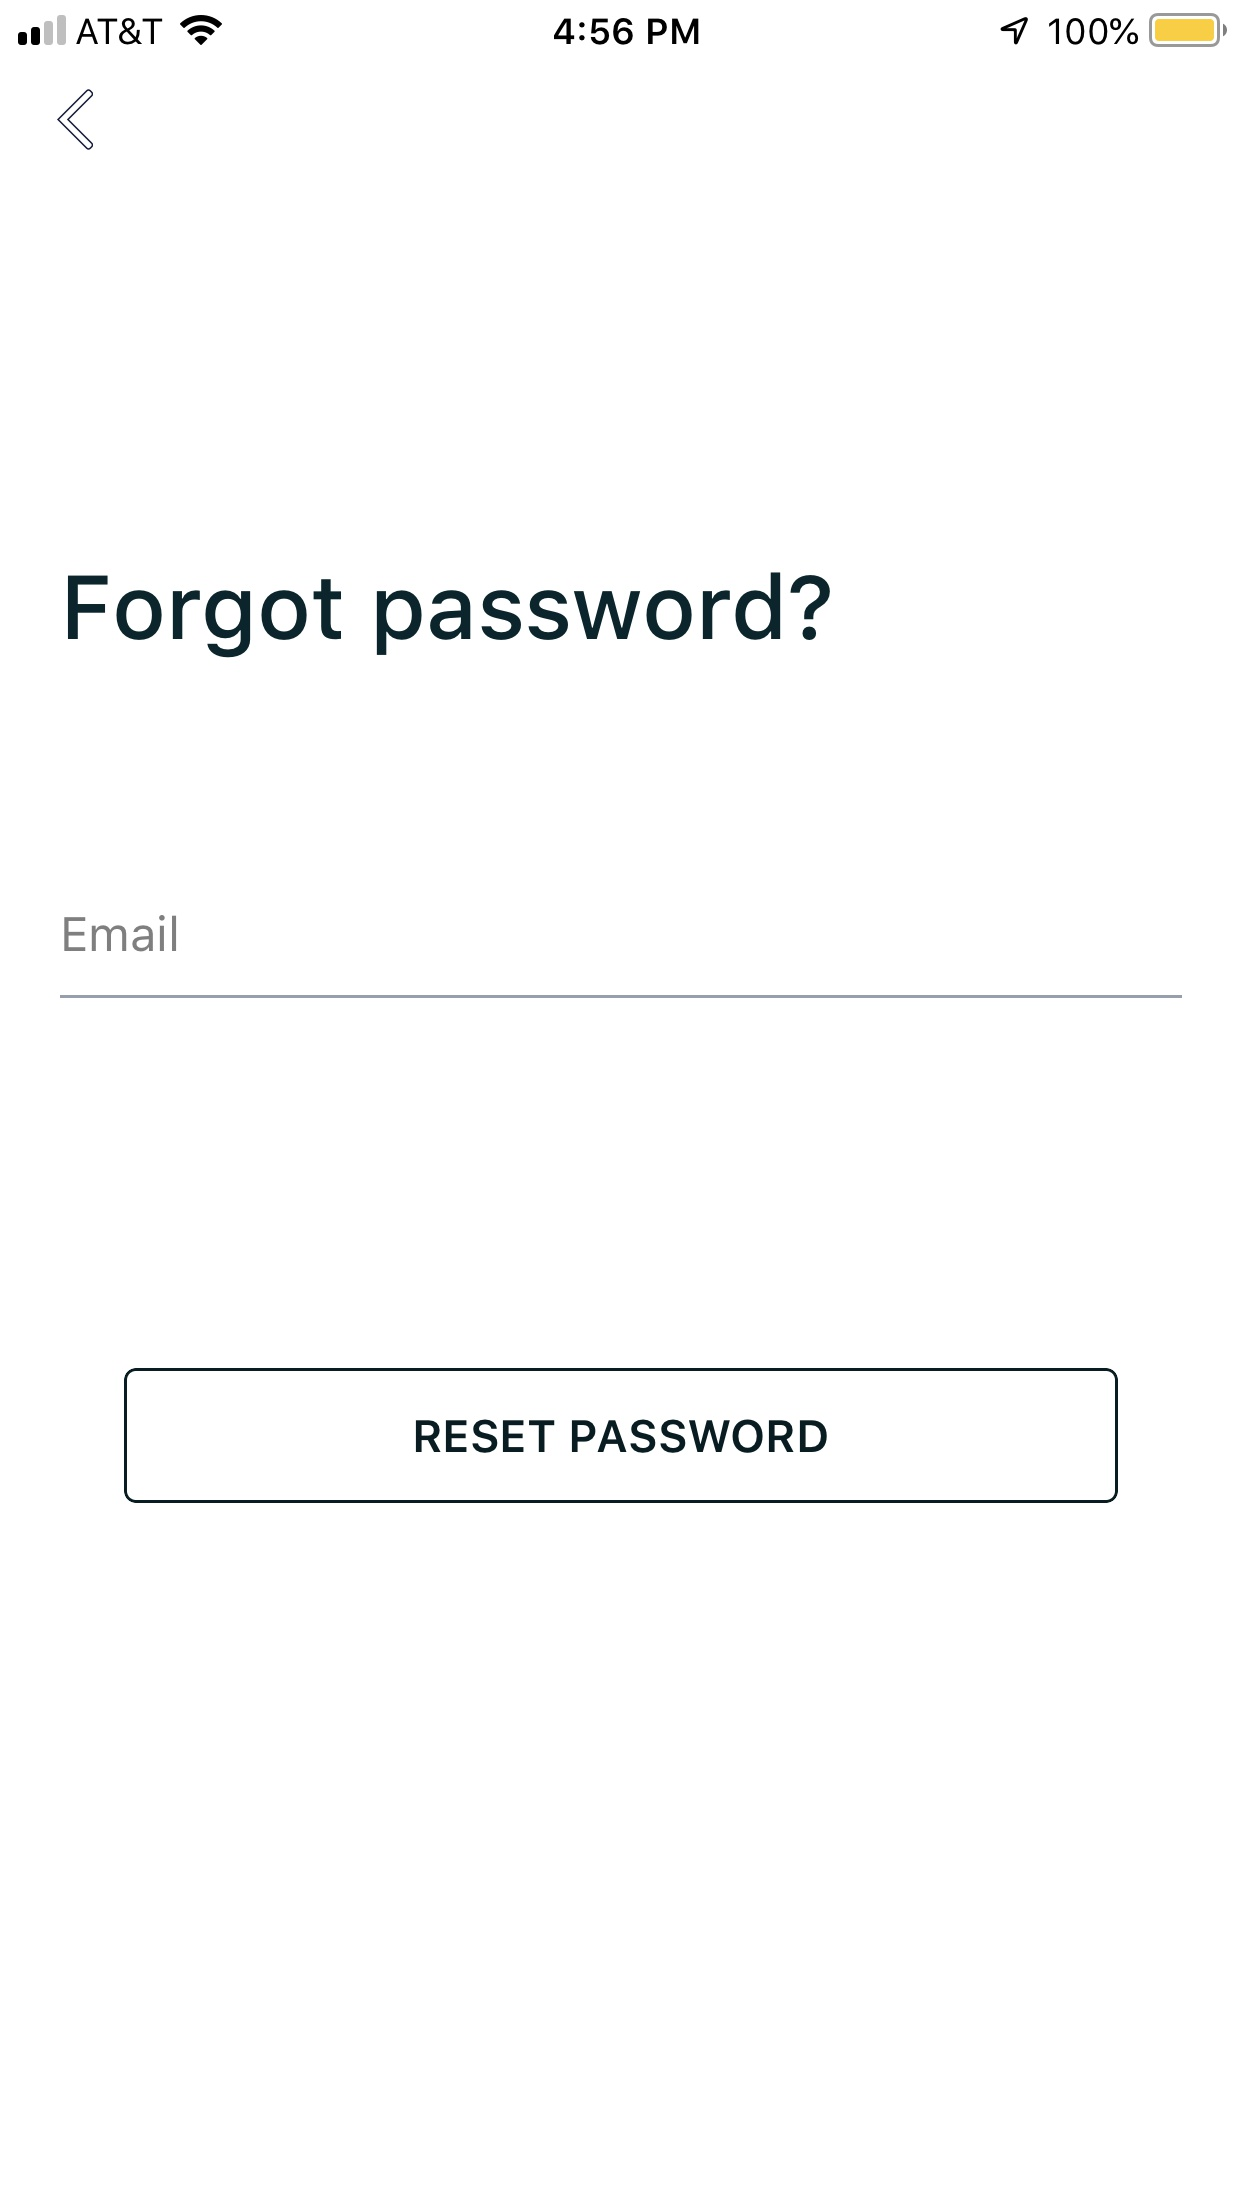EditText: (61, 914, 1183, 999)
Icon: (58, 89, 96, 153)
Text: (67, 572, 833, 660), (64, 914, 179, 952)
TextButton: (124, 1366, 1119, 1504)
UpperTaskBar: (2, 2, 1242, 49)
